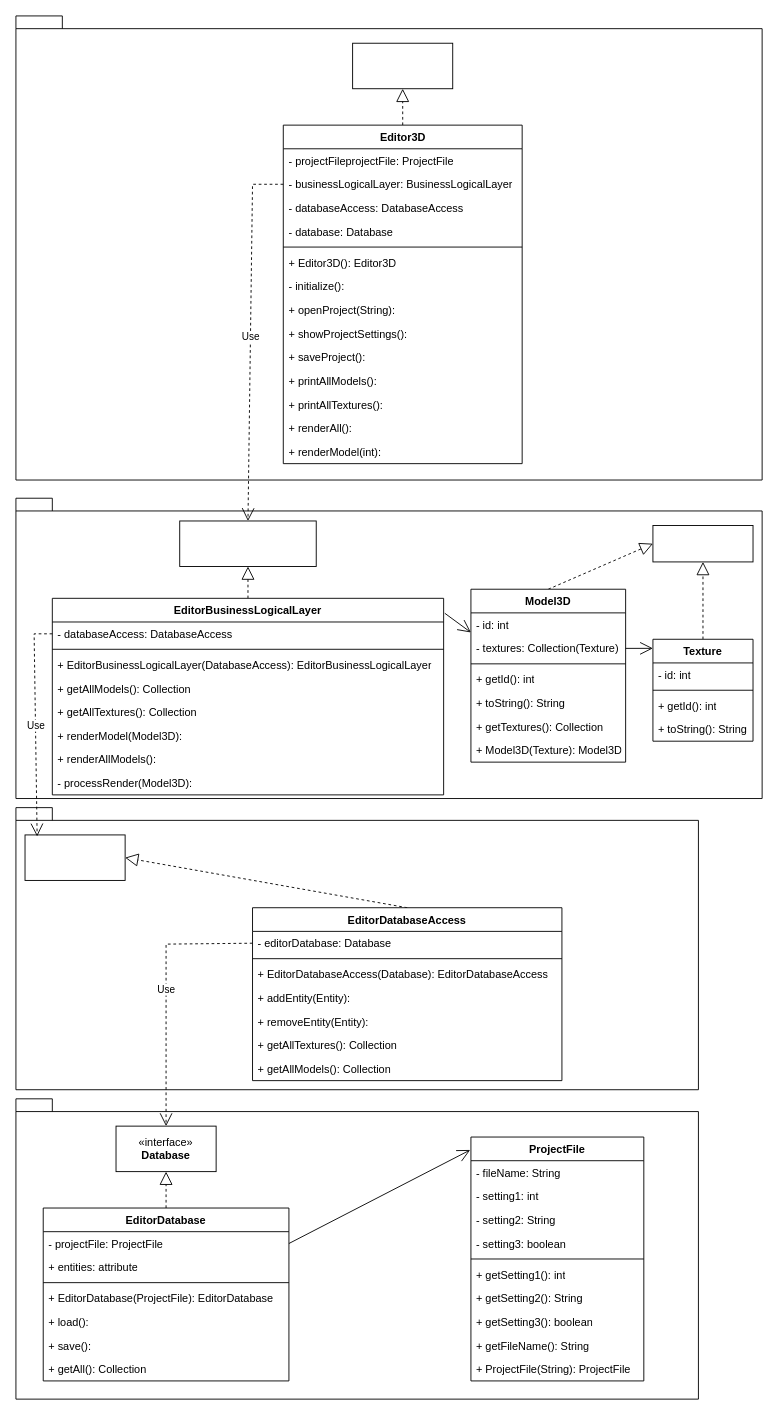
This 778x1415 diagram has some shape labels left out. Each missing label, with the centre of its shape:
"«interface» BusinessLogicalLayer" belongs at point 247,543.
"«interface» DatabaseAccess" belongs at point 74,857.
"«interface» Entity" belongs at point 702,543.
"«interface» UILayer" belongs at point 402,65.
